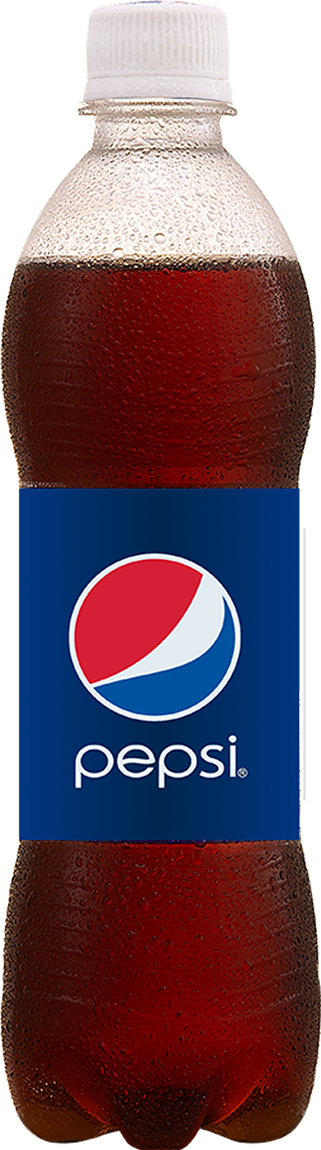pepsi: (61, 549, 240, 723), (67, 552, 240, 723), (71, 552, 240, 723)
